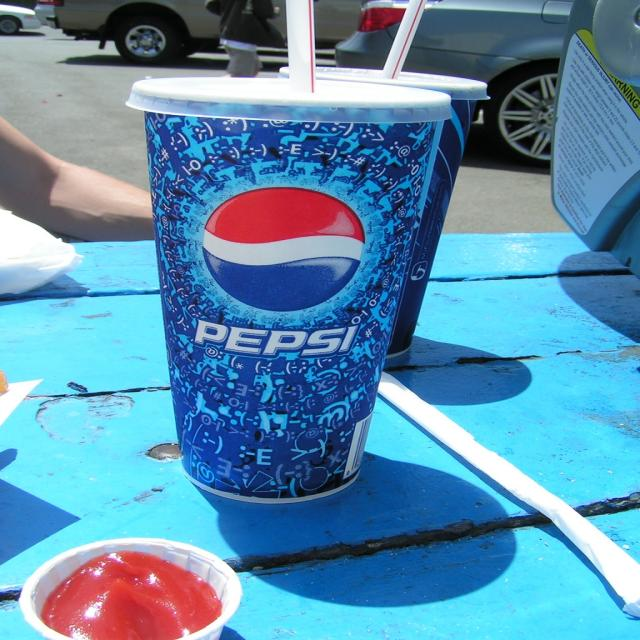pepsi: (199, 184, 369, 315)
